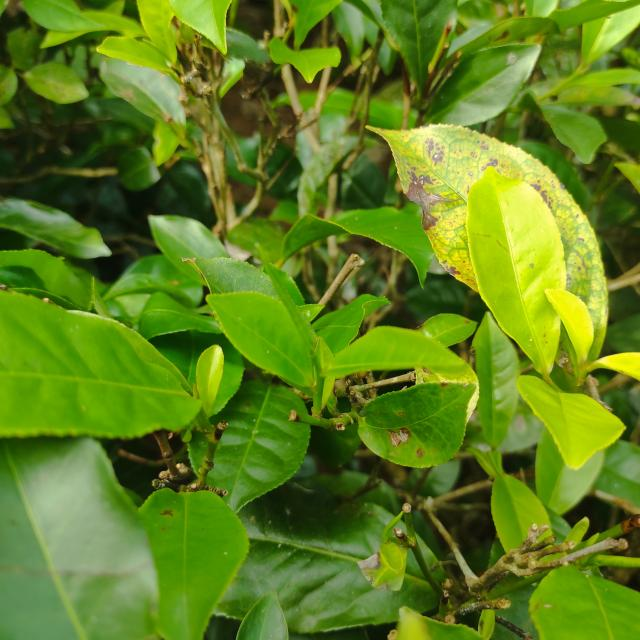unopened_leaf: (248, 235, 328, 366)
